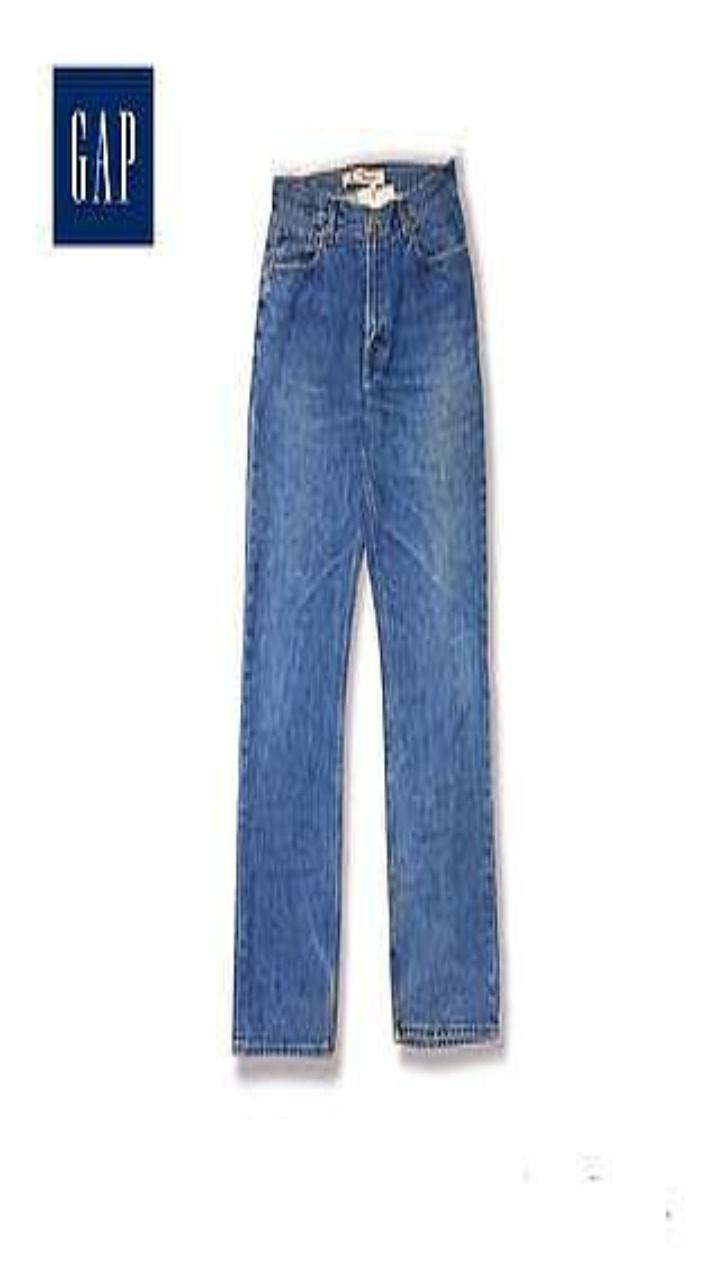Jeans: (233, 160, 498, 1053)
